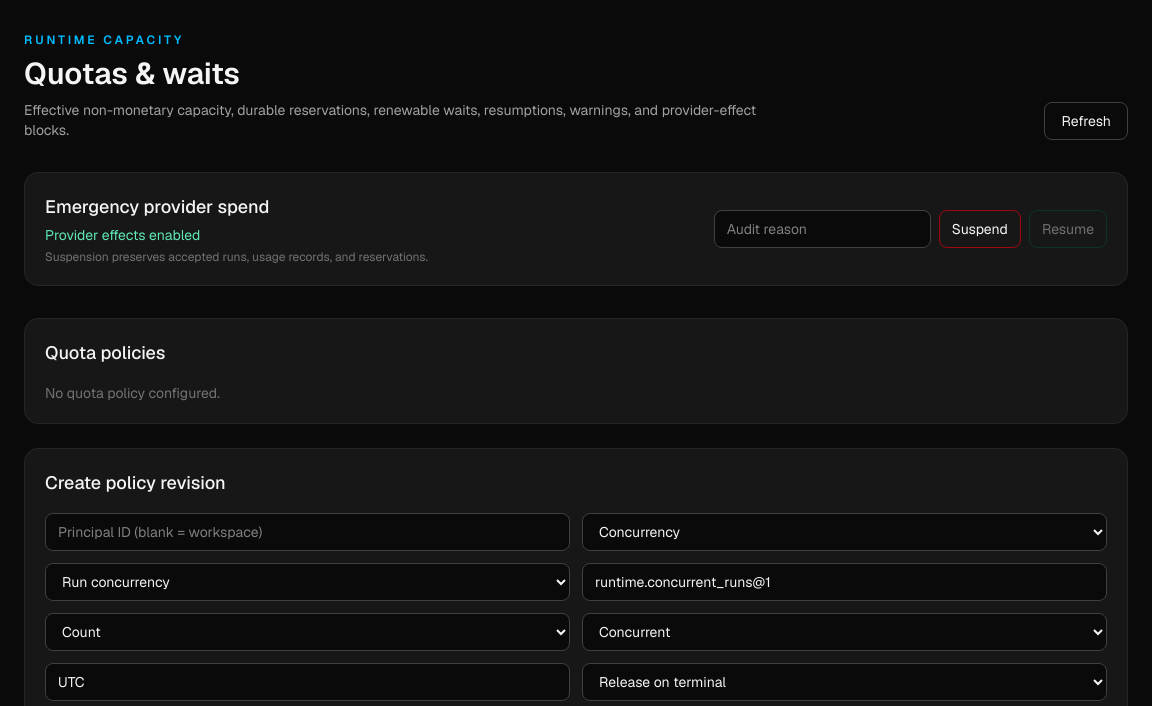
Test: QuotaCockpit › requires an audit reason before changing emergency spend state
Expected: the text "Provider effects enabled" is shown, [45,226,200,244]
Step 1. Click the button "Suspend" → {"x": 980, "y": 229}, box [939,210,1021,248]
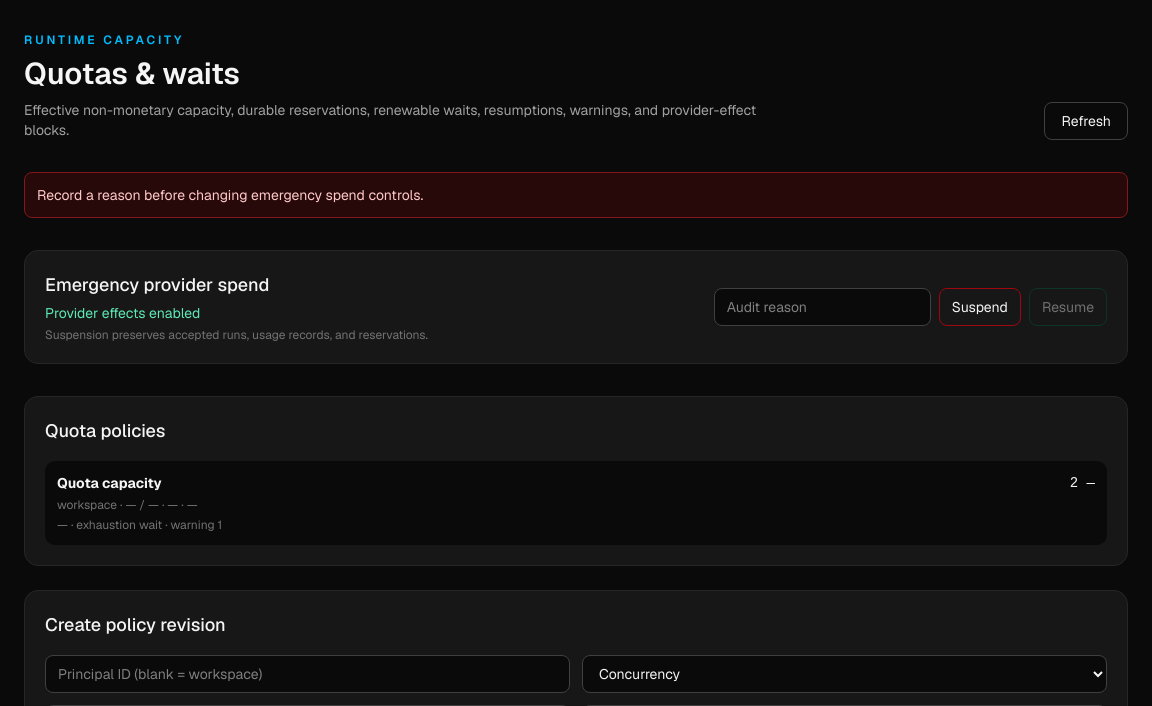
Now the message shows "Record a reason", box [37,186,423,204]
